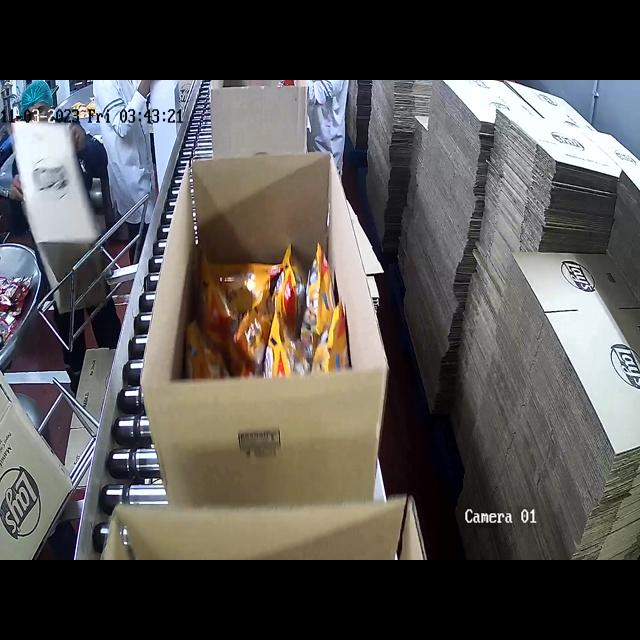cheese: (185, 238, 348, 376)
